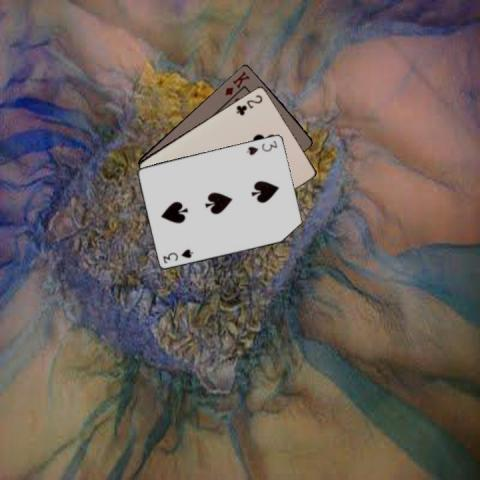2c: (233, 91, 264, 117)
3s: (244, 137, 279, 156), (160, 246, 195, 265)
Kd: (222, 68, 251, 97)
